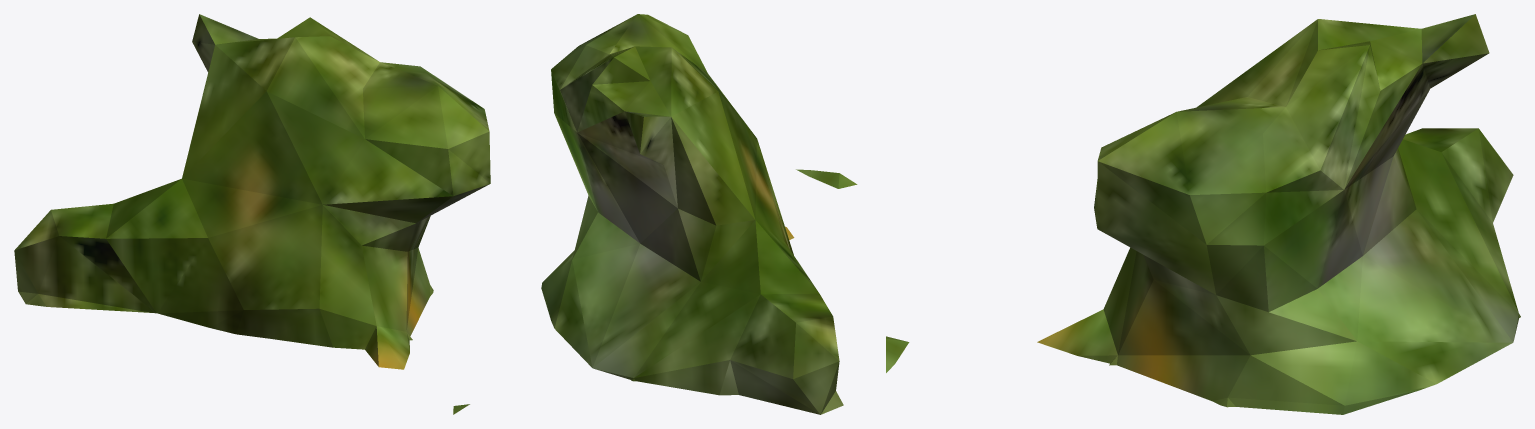
3 views of the same model, side by side, from view 1: azimuth 30°, elevation 25°; view 2: azimuth 150°, elevation 25°; view 3: azimuth 270°, elevation 25° (orthographic). The views are drawn at different scales.
Size of the model in its own units: 0.2243 by 0.1482 by 0.2634.
Materials: 1 (1 with a texture image).
